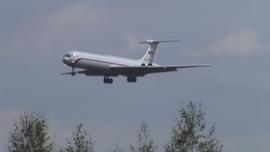aircraft: (61, 38, 211, 83)
